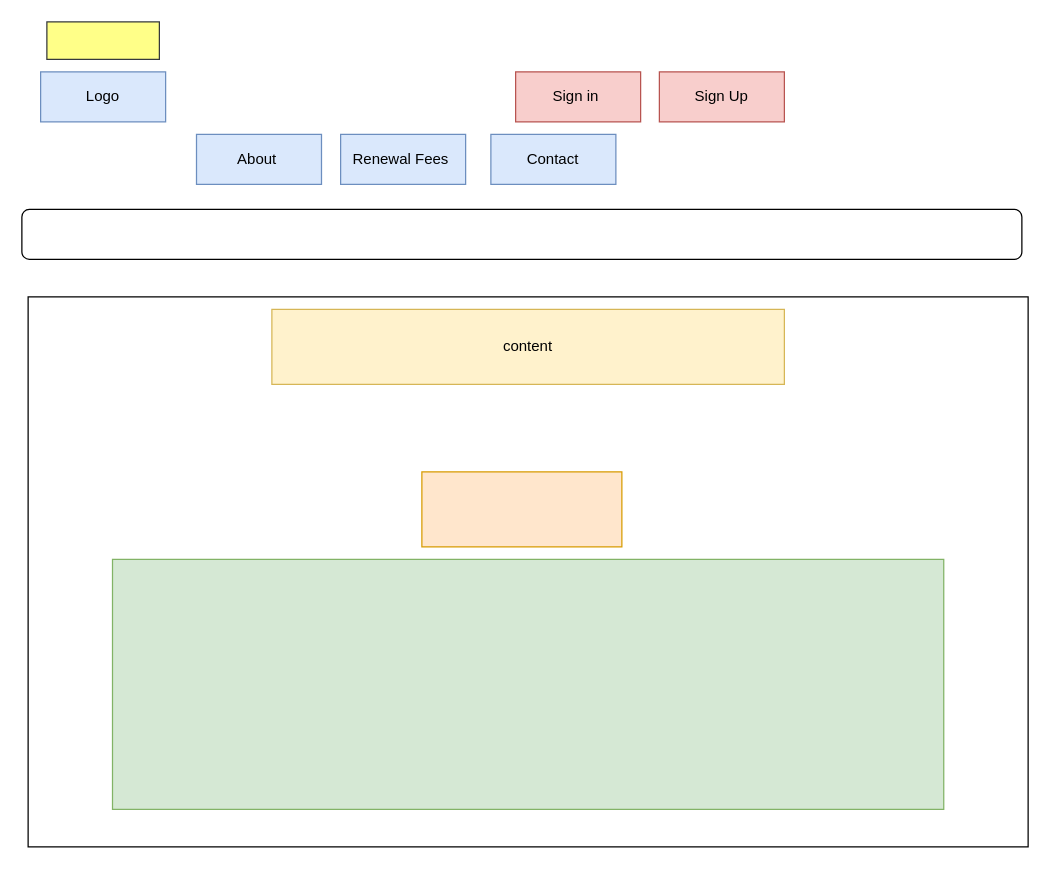
Some shapes in this 1050 by 869 pixel diagram are drawn without their labels. The shapes that lost their labels are listed below. From the top down, each one's centre as x and y in pixels, then its label:
the point at 102,40: layout
the point at 521,233: nav bar
the point at 521,509: Renewal fees by Country
the point at 527,683: List Of Countries where you can pay Renewals
